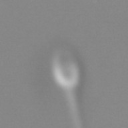normal: (60, 88, 87, 128)
